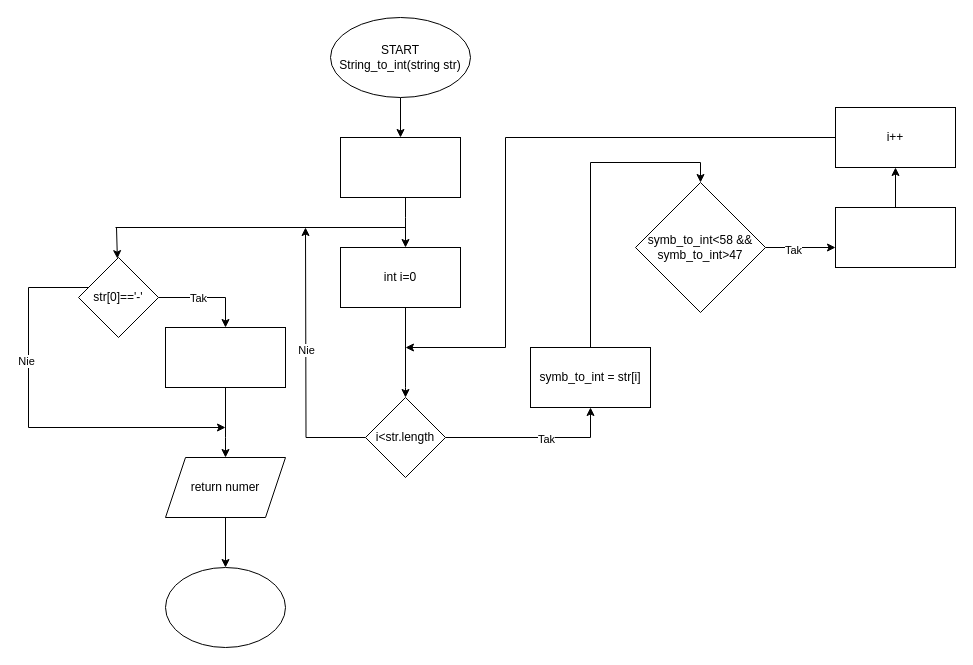
Image size: 973x665. Some labels were removed from this diagram. The box of each missing label's shape, as (x1, y1, x2, y2) in pixels:
Int numer=0 int symb_to_int: (340, 136, 460, 198)
numer -= 2*numer: (164, 326, 286, 388)
numer+=(symb_to_int-48)*pow(10, str.length()-i-1): (834, 206, 956, 268)
STOP: (164, 566, 286, 648)
